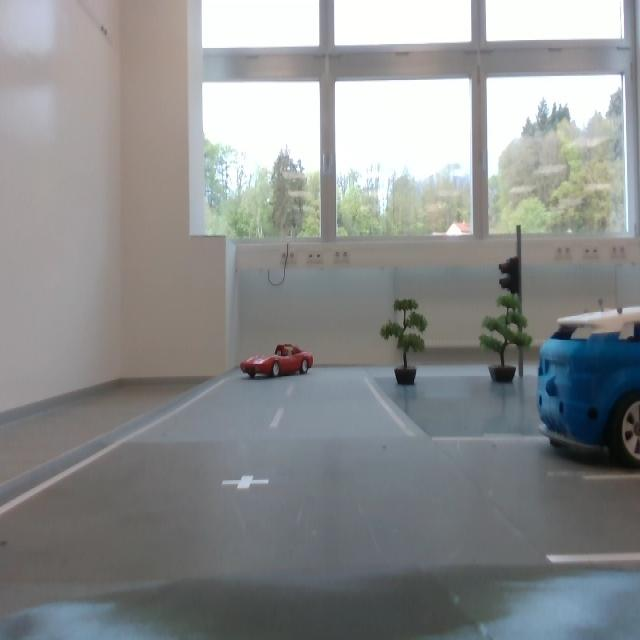car: (536, 300, 640, 477), (238, 340, 319, 384)
potted plant: (479, 292, 536, 370), (377, 291, 430, 367)
traffic light: (498, 250, 520, 301)
